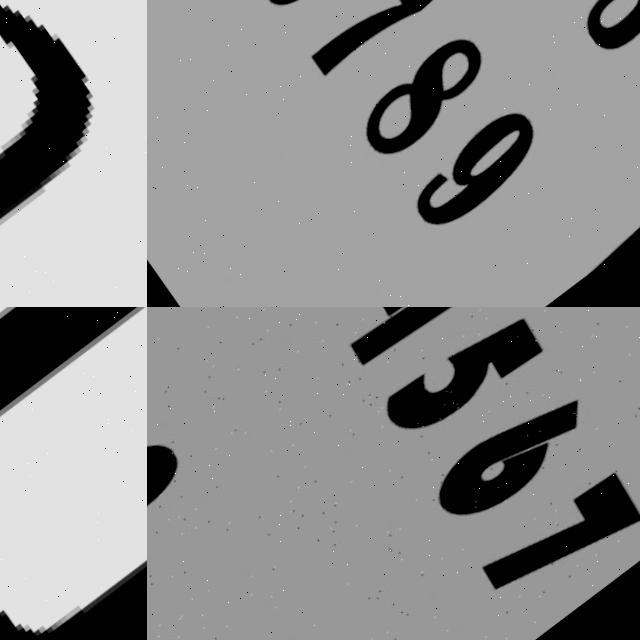0: (147, 383, 245, 597), (147, 0, 195, 119)
3: (554, 0, 640, 82)
4: (318, 307, 533, 387), (612, 0, 640, 154)
5: (362, 307, 597, 475)
6: (404, 349, 640, 562)
7: (448, 438, 640, 640), (275, 0, 475, 114)
8: (339, 3, 540, 184)
9: (381, 82, 588, 267), (147, 308, 184, 517)
H: (0, 4, 96, 231)
N: (0, 307, 147, 640)
